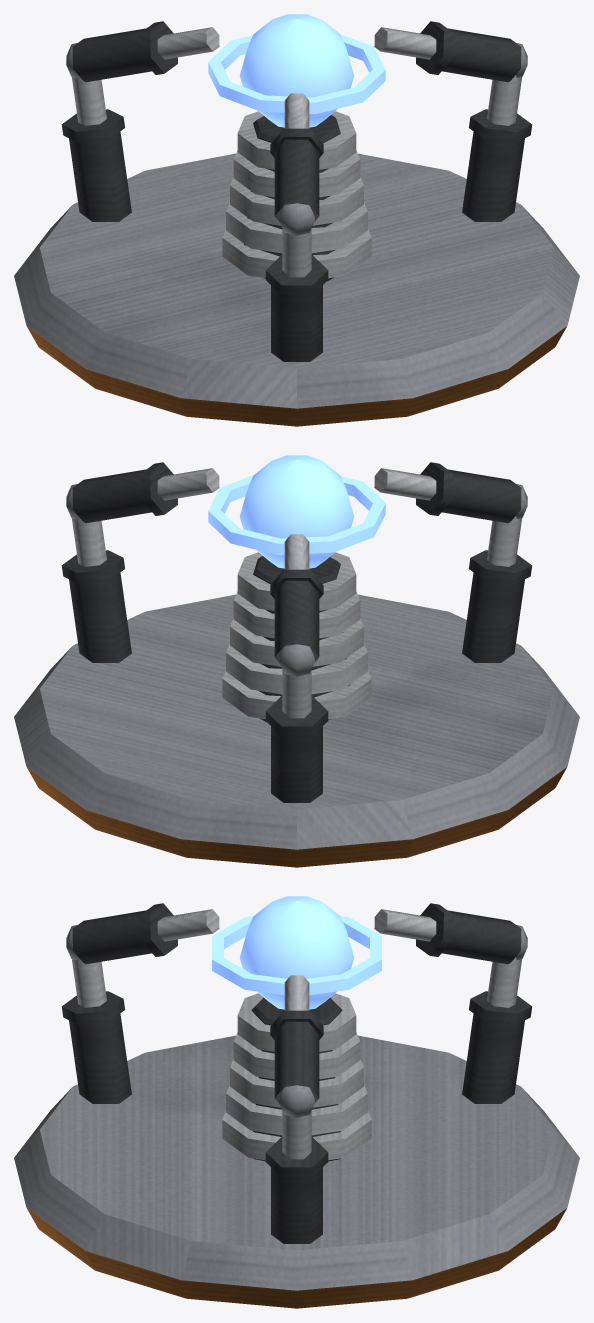
Rendered from R4D_EMPTrap.glb.
The picture shows the model from 3 angles, top to bottom: view 1: azimuth 30°, elevation 25°; view 2: azimuth 150°, elevation 25°; view 3: azimuth 270°, elevation 25°; orthographic projection.
Visible parts, largest first — view 1: R4D_EMPTrap_Body, R4D_EMPTrap_Core; view 2: R4D_EMPTrap_Body, R4D_EMPTrap_Core; view 3: R4D_EMPTrap_Body, R4D_EMPTrap_Core.
Part boxes in pixels (left/top/right/bottom): R4D_EMPTrap_Body: left=14, top=21, right=579, bottom=426; R4D_EMPTrap_Core: left=208, top=14, right=385, bottom=127; R4D_EMPTrap_Body: left=14, top=462, right=579, bottom=867; R4D_EMPTrap_Core: left=208, top=455, right=385, bottom=568; R4D_EMPTrap_Body: left=14, top=903, right=579, bottom=1308; R4D_EMPTrap_Core: left=212, top=896, right=381, bottom=1009.
Bounding box in the file's own units: 0.4352 × 0.25 × 0.4376.
5 materials, 4 textured.
